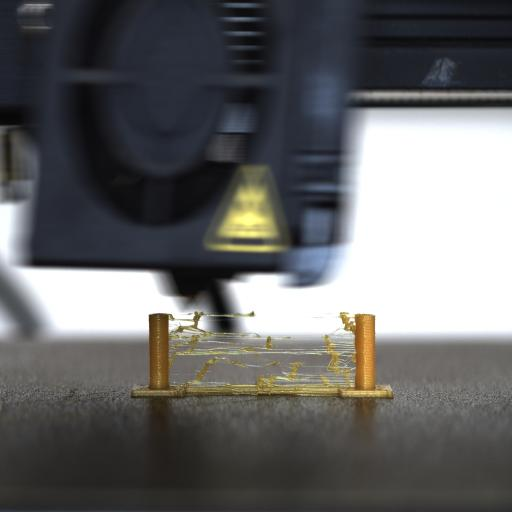stringing: (168, 308, 358, 390)
